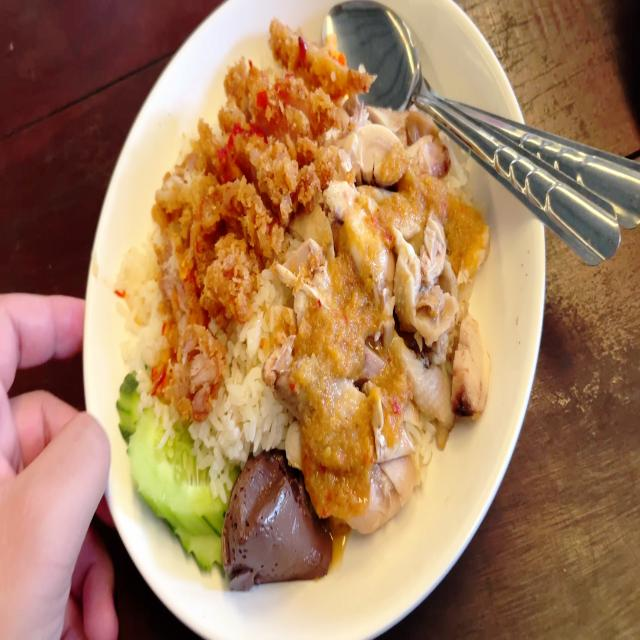boiled_chicken: (315, 168, 459, 500)
boiled_chicken_blood_jelly: (220, 438, 327, 587)
chicken_rice: (109, 20, 499, 588)
cucumber: (116, 367, 232, 573)
fried_chicken: (153, 52, 263, 401)
